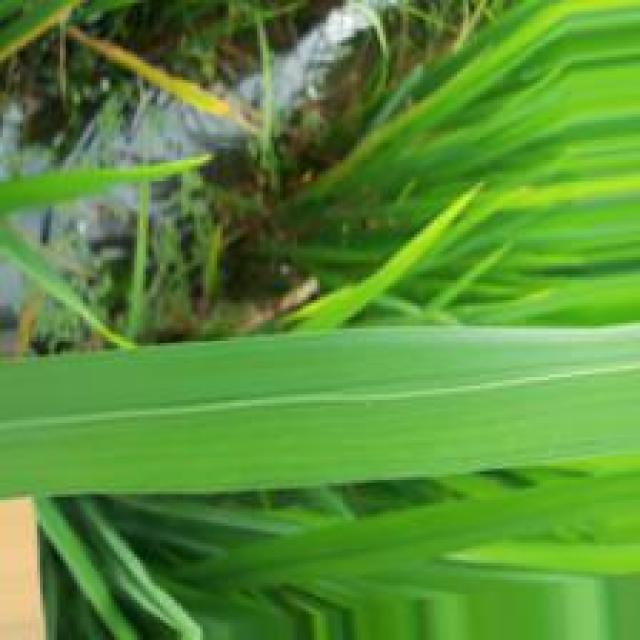HealthyLeaf: (7, 331, 637, 495)
